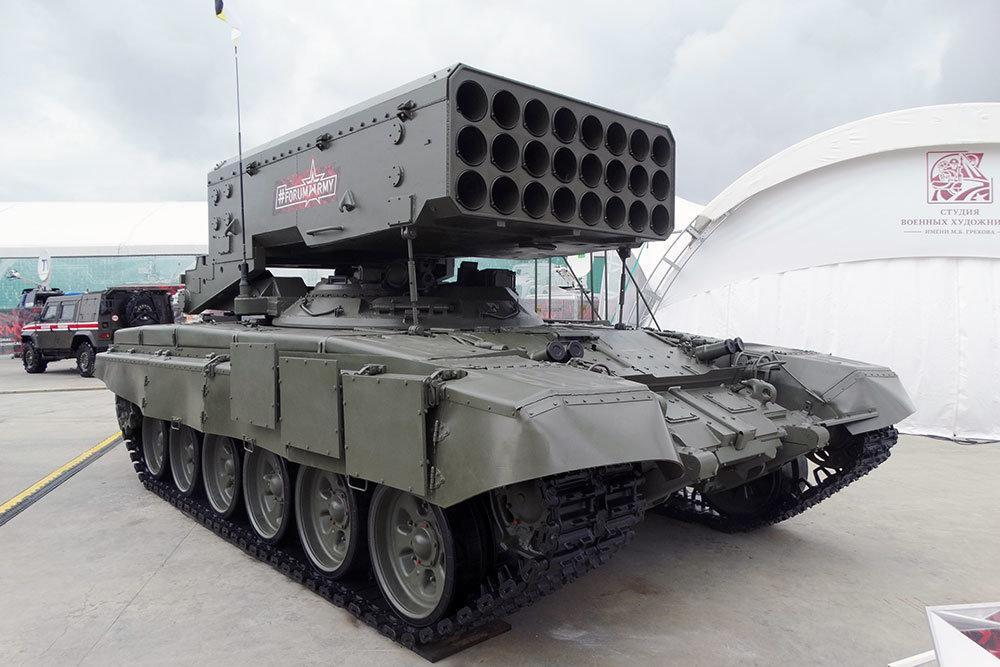armored_car: (20, 286, 171, 375)
rszo: (85, 49, 930, 639)
